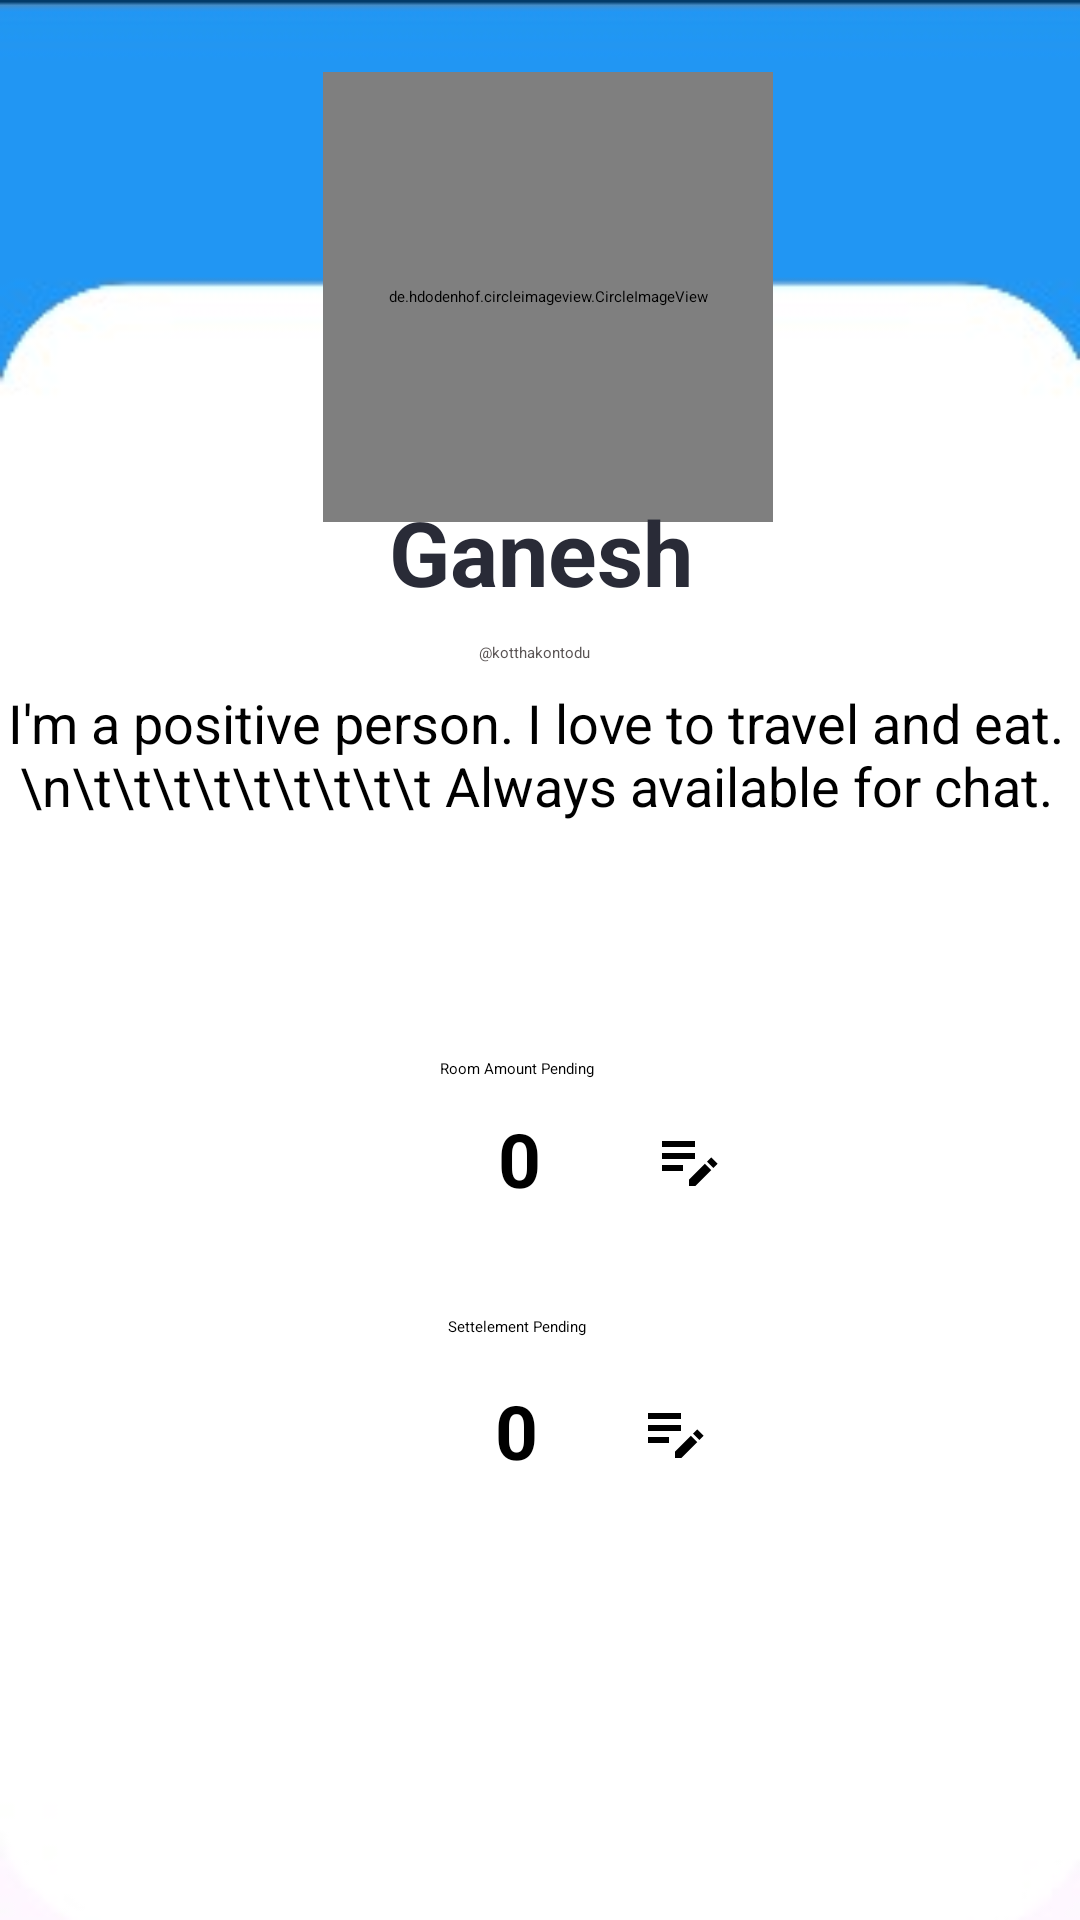

Icons on this 1080px x 1920px Android screen, each with the point to tap as (x,y):
Edit Amount: (690,1163)
Edit Pending: (676,1435)
